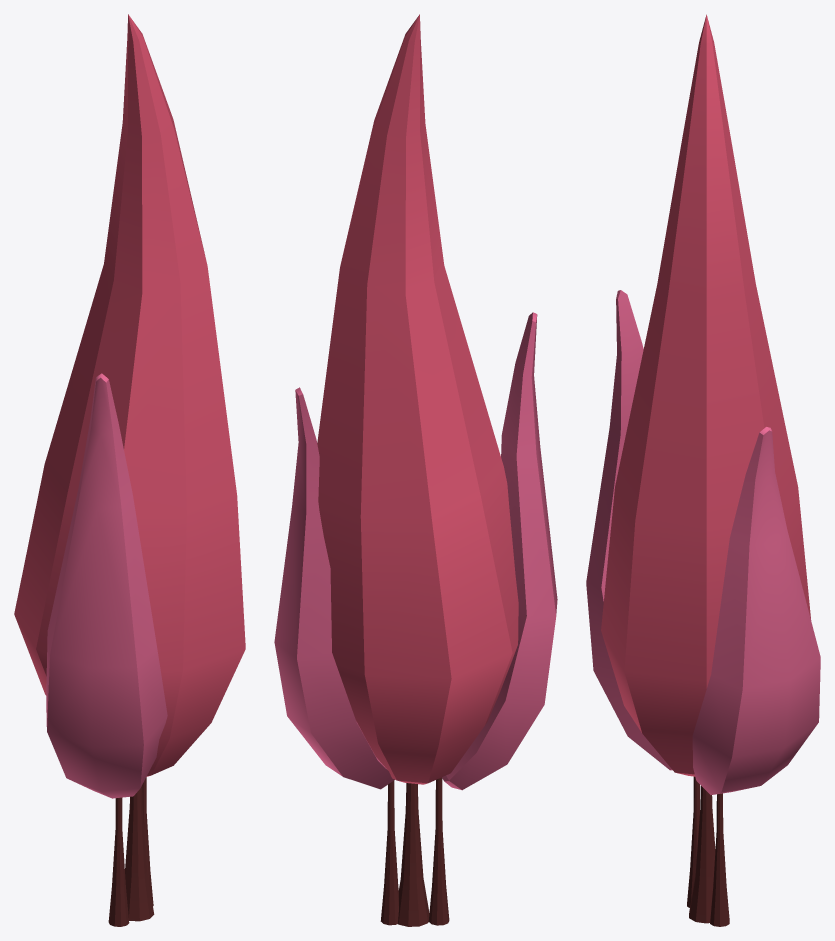
The model's file is Checkpoint.fbx.
3 renders of one model, left to right at view 1: azimuth 30°, elevation 25°; view 2: azimuth 150°, elevation 25°; view 3: azimuth 270°, elevation 25°, orthographic.
Parts seen in each view (by area): view 1: Checkpoint; view 2: Checkpoint; view 3: Checkpoint.
Part boxes in pixels (x1,y1,x2,y2): Checkpoint: (14, 14, 245, 926); Checkpoint: (274, 14, 557, 926); Checkpoint: (586, 14, 820, 926).
Size of the model in its own units: 116 by 436 by 103.
